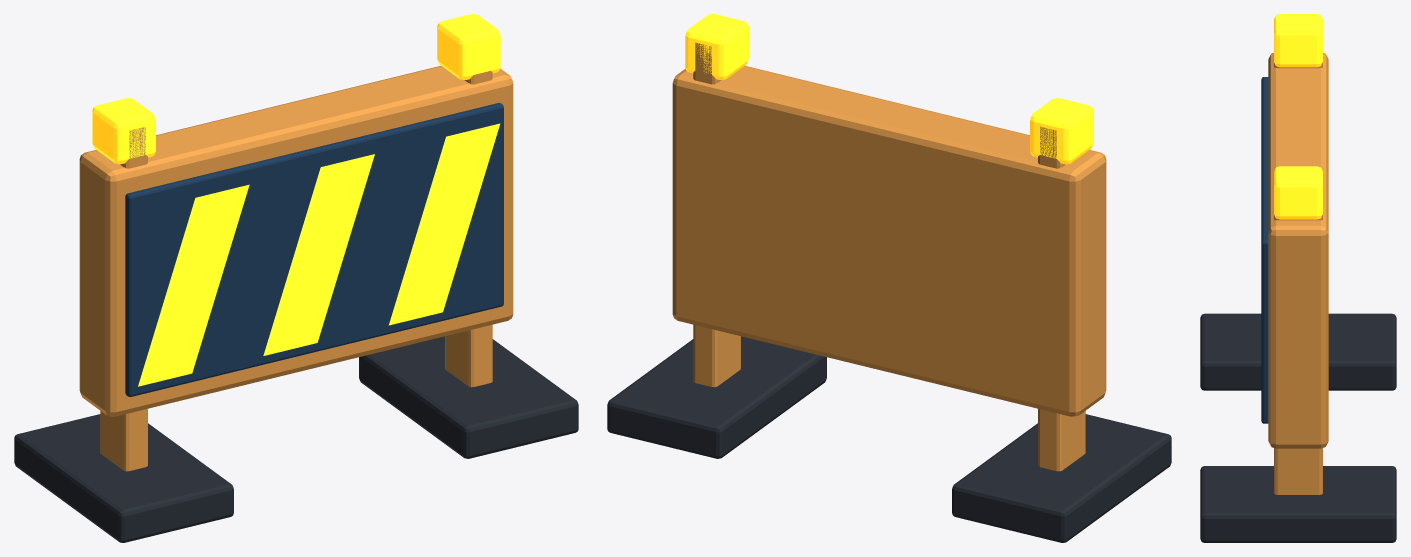
File: barrier_a.glb
The picture shows the model from 3 angles, left to right: view 1: azimuth 30°, elevation 25°; view 2: azimuth 150°, elevation 25°; view 3: azimuth 270°, elevation 25°; orthographic projection. The views are drawn at different scales.
Visible parts, largest first — view 1: Barrier_A_StaticMesh; view 2: Barrier_A_StaticMesh; view 3: Barrier_A_StaticMesh.
Boxes of the visible parts, <box> form: Barrier_A_StaticMesh: <box>14,14,578,542</box>; Barrier_A_StaticMesh: <box>607,14,1171,542</box>; Barrier_A_StaticMesh: <box>1200,14,1396,542</box>.
Bounding box in the file's own units: 4.4 × 3.5 × 1.8.
